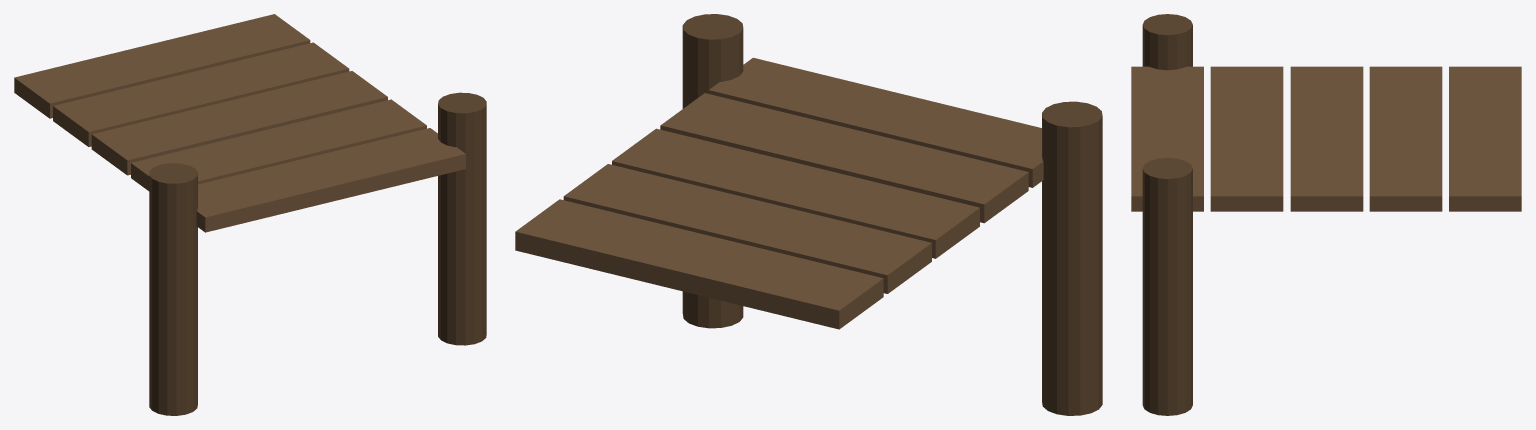
File: pier.fbx
3 renders of one model, left to right at view 1: azimuth 30°, elevation 25°; view 2: azimuth 150°, elevation 25°; view 3: azimuth 270°, elevation 25°, orthographic. The views are drawn at different scales.
Parts seen in each view (by area): view 1: Cylinder; view 2: Cylinder; view 3: Cylinder.
Part boxes in pixels (x1=…): Cylinder: x1=14, y1=14, x2=486, y2=415; Cylinder: x1=515, y1=14, x2=1102, y2=415; Cylinder: x1=1131, y1=14, x2=1521, y2=415.
Size of the model in its own units: 720 by 482 by 719.
